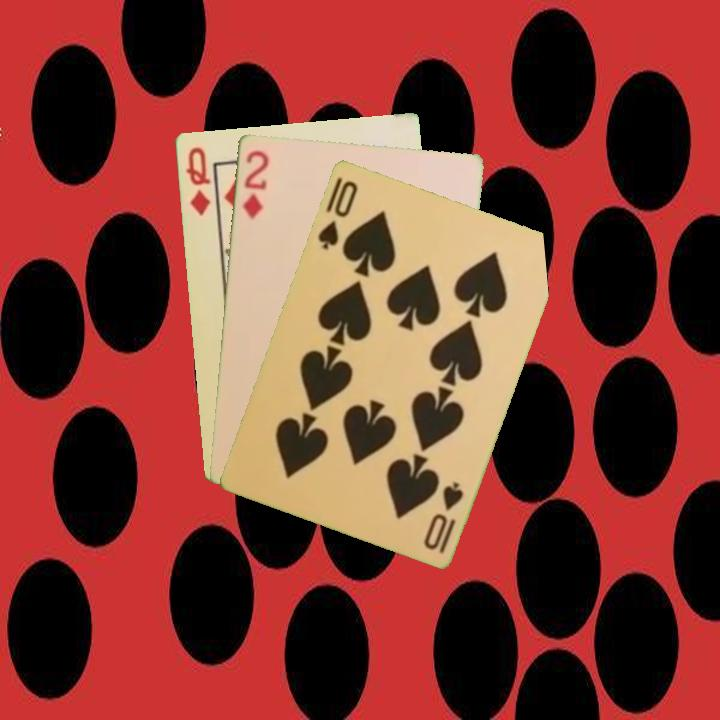10s: (420, 477, 466, 557), (314, 176, 361, 252)
2d: (239, 146, 272, 221)
Qd: (182, 143, 213, 218)
